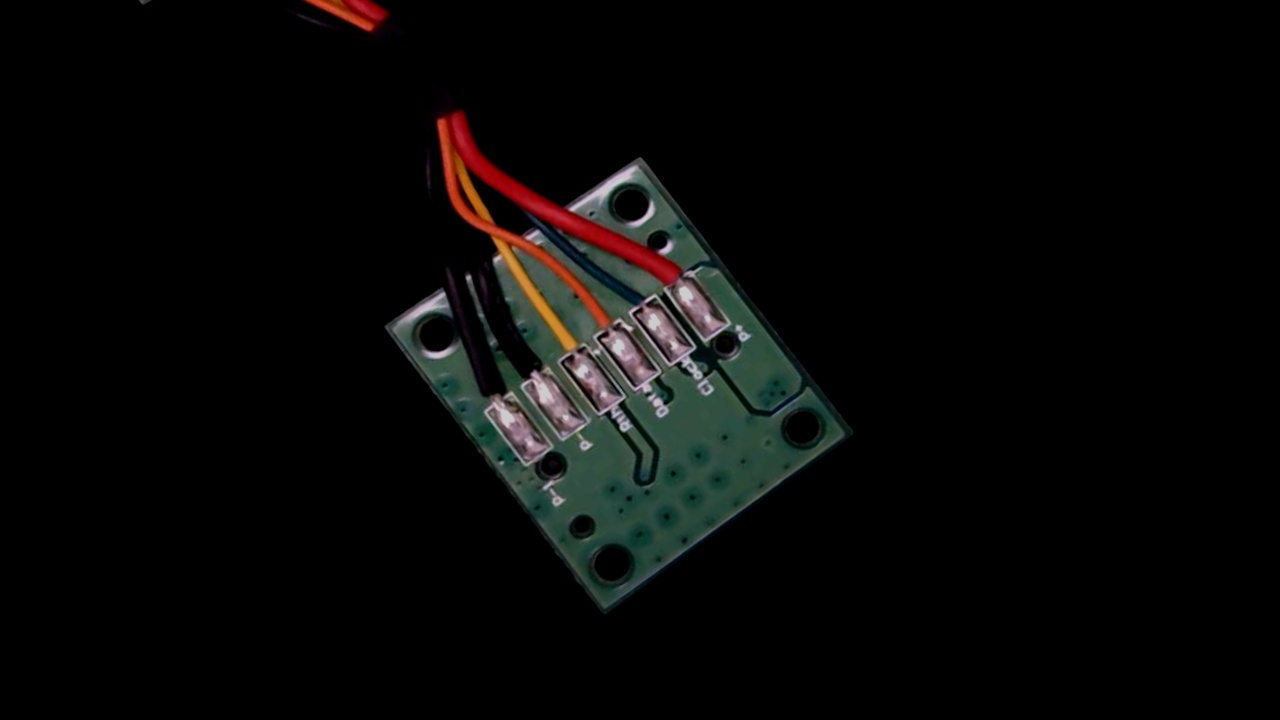Black: (486, 324, 559, 400)
Black1: (445, 347, 524, 427)
Green: (600, 261, 669, 330)
Orange: (558, 277, 632, 353)
Red: (629, 228, 703, 306)
Yellow: (515, 292, 598, 378)
